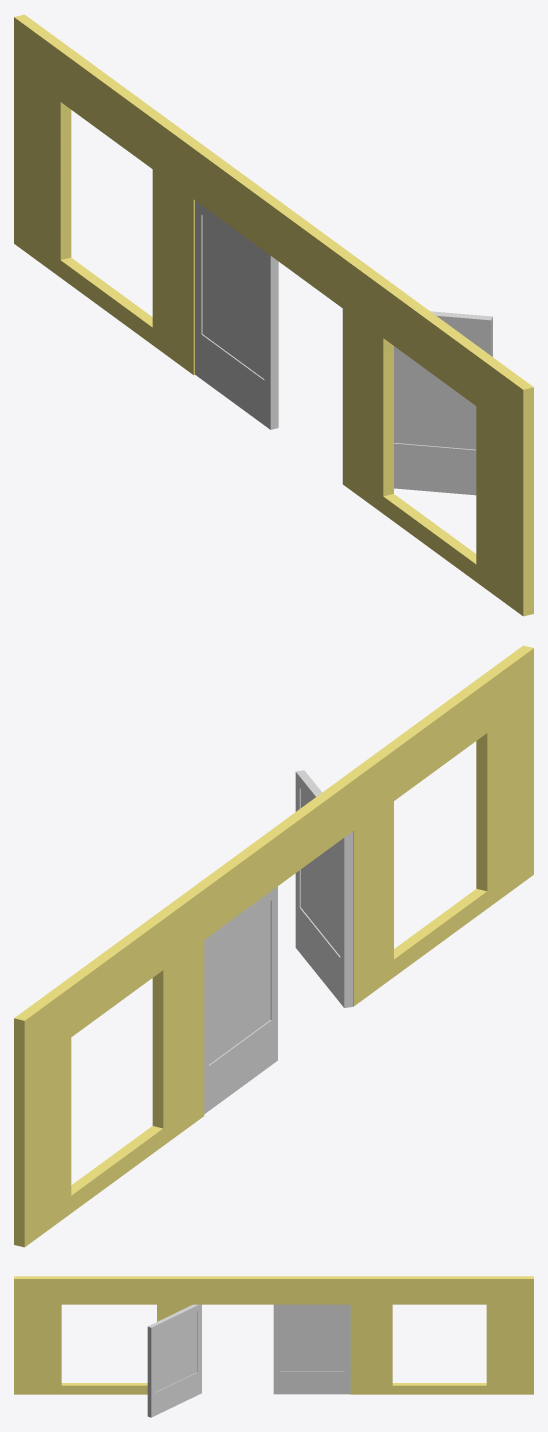
Rendered from Pintu Depan.fbx.
3 renders of one model, top to bottom at view 1: azimuth 30°, elevation 25°; view 2: azimuth 150°, elevation 25°; view 3: azimuth 270°, elevation 25°, orthographic. The views are drawn at different scales.
Parts seen in each view (by area): view 1: Tembok, Pintu Kaca. Glass, Pintu Kaca, Pintu Kaca. Glass.001, Pintu Kaca.001; view 2: Tembok, Pintu Kaca. Glass, Pintu Kaca, Pintu Kaca.001, Pintu Kaca. Glass.001; view 3: Tembok, Pintu Kaca. Glass, Pintu Kaca, Pintu Kaca.001, Pintu Kaca. Glass.001.
Boxes of the visible parts, <box> form: Tembok: <box>14,14,533,616</box>; Pintu Kaca. Glass: <box>202,216,264,378</box>; Pintu Kaca: <box>195,200,278,429</box>; Pintu Kaca. Glass.001: <box>394,328,478,449</box>; Pintu Kaca.001: <box>342,308,492,495</box>; Tembok: <box>14,645,533,1247</box>; Pintu Kaca. Glass: <box>209,901,270,1064</box>; Pintu Kaca: <box>204,886,277,1113</box>; Pintu Kaca.001: <box>295,770,352,1007</box>; Pintu Kaca. Glass.001: <box>301,790,340,955</box>; Tembok: <box>14,1276,533,1394</box>; Pintu Kaca. Glass: <box>280,1310,344,1370</box>; Pintu Kaca: <box>273,1304,350,1394</box>; Pintu Kaca.001: <box>147,1304,201,1417</box>; Pintu Kaca. Glass.001: <box>155,1311,197,1391</box>.
Bounding box in the file's own units: 402 × 838 × 3412.
